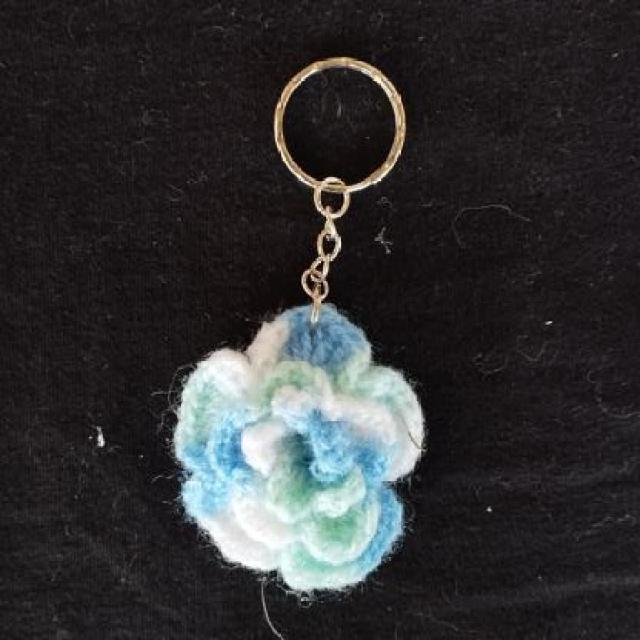Llavero: (170, 302, 428, 596)
